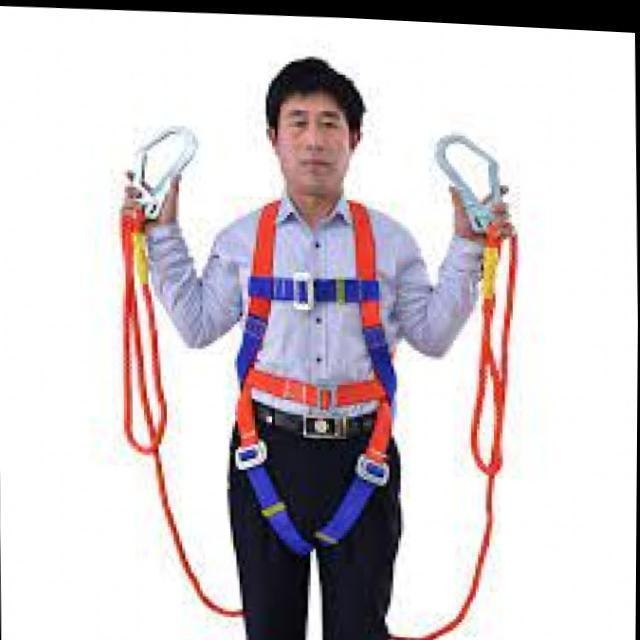Arnes_seguridad: (226, 195, 402, 550)
